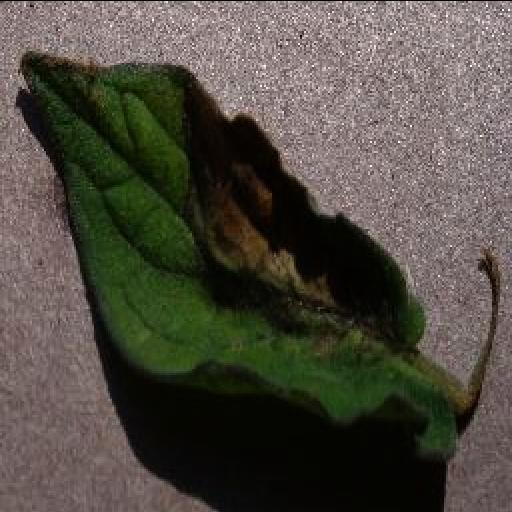disease_tomato: (16, 48, 458, 460)
